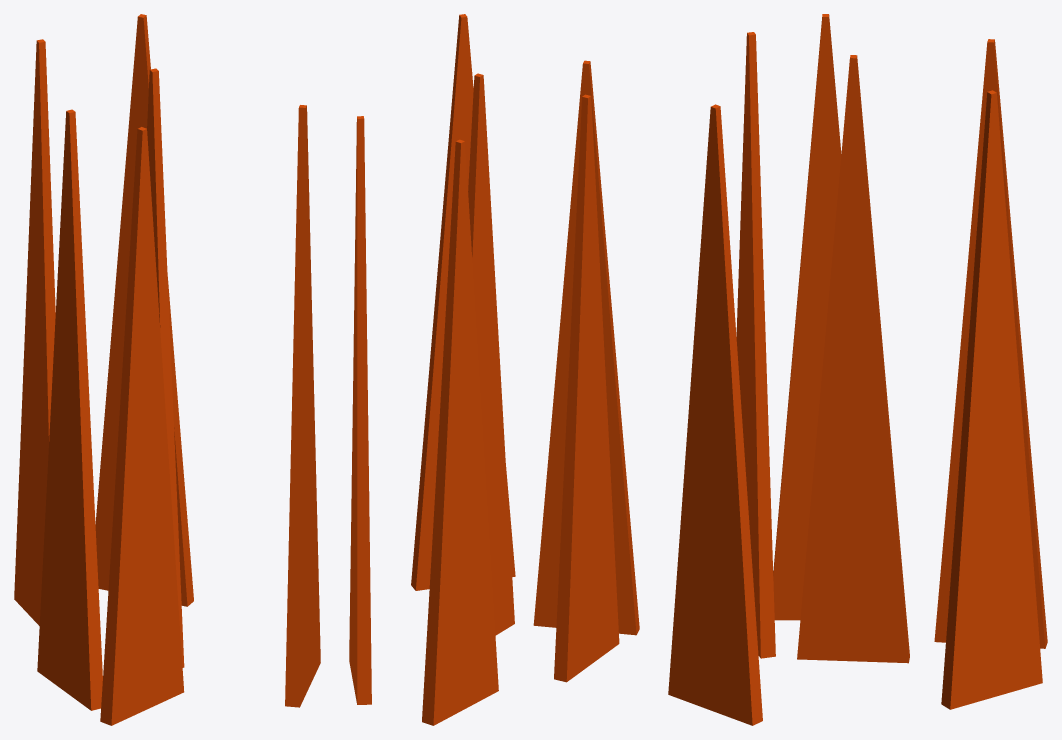
File: grass.fbx
The picture shows the model from 3 angles, left to right: view 1: azimuth 30°, elevation 25°; view 2: azimuth 150°, elevation 25°; view 3: azimuth 270°, elevation 25°; orthographic projection. The views are drawn at different scales.
Visible parts, largest first — view 1: Cube.005; view 2: Cube.005; view 3: Cube.005.
Part boxes in pixels (<box>): Cube.005: <box>14,14,320,725</box>; Cube.005: <box>349,14,639,725</box>; Cube.005: <box>668,14,1047,725</box>.
Bounding box in the file's own units: 51.39 × 128 × 71.96.
